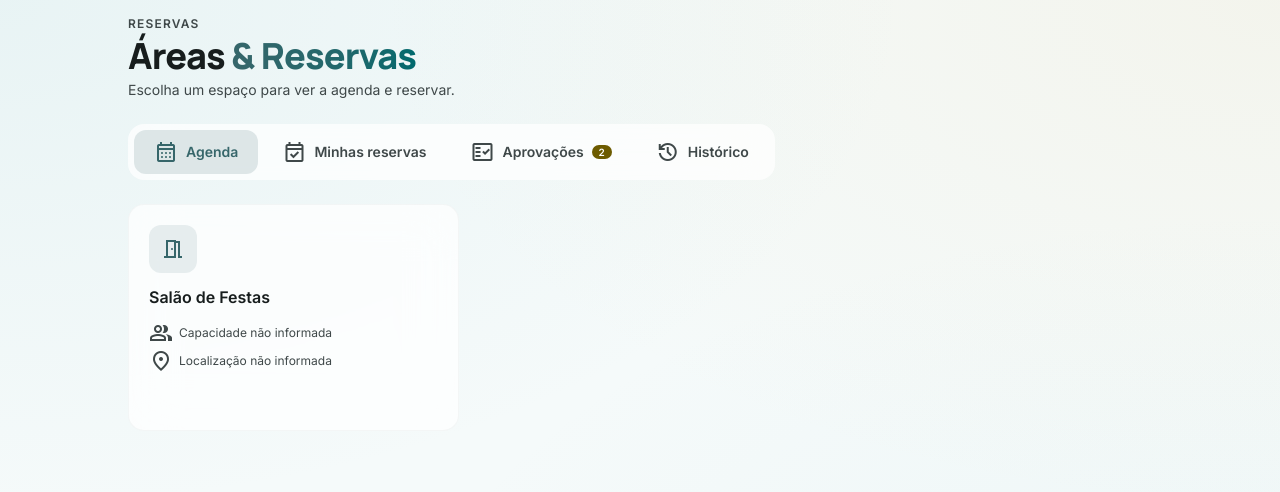
it: MinhasReservas — síndico › selecionar todas marca a fila inteira
Click the button "Aprovações 2" at (541, 152), box x1=450 y1=130 x2=632 y2=174
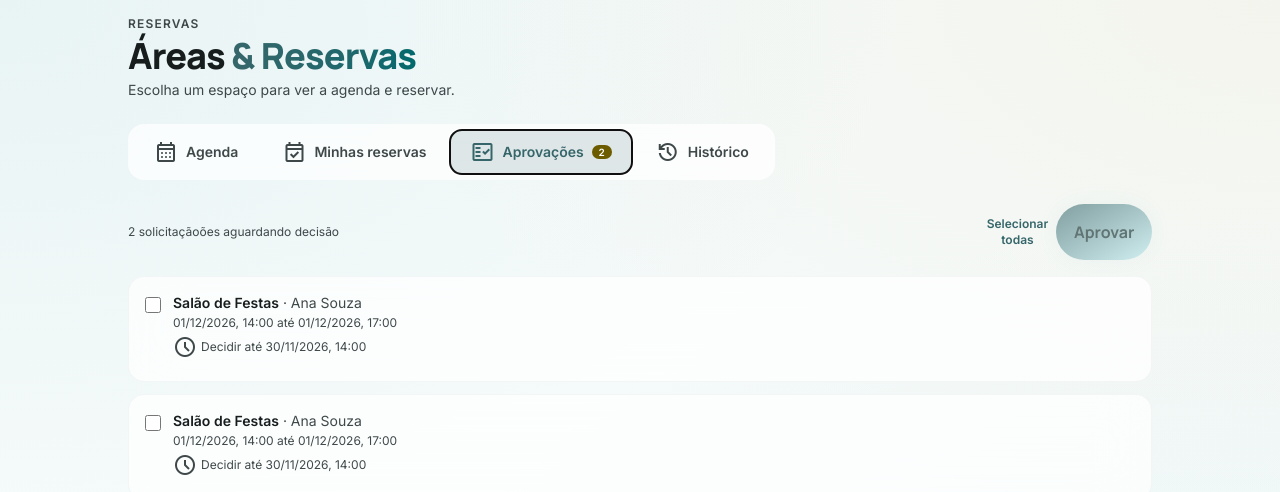
Click the button "Selecionar todas" at (1018, 232), box x1=987 y1=216 x2=1048 y2=248
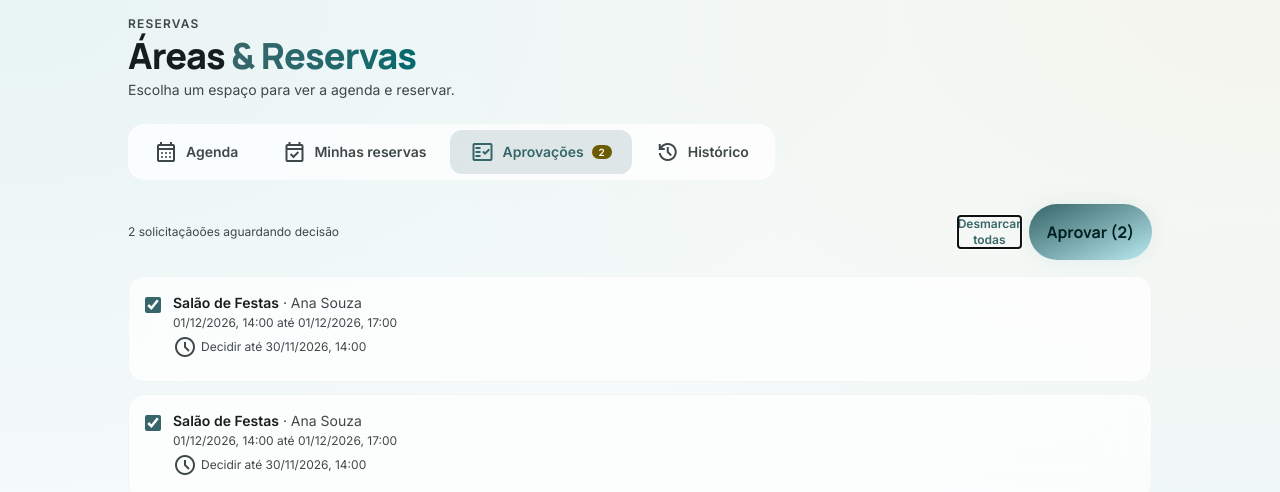
Expected: the 1st checkbox named "Selecionar reserva de Ana Souza" is checked, x1=145 y1=297 x2=161 y2=313
Expected: the 2nd checkbox named "Selecionar reserva de Ana Souza" is checked, x1=145 y1=415 x2=161 y2=431
